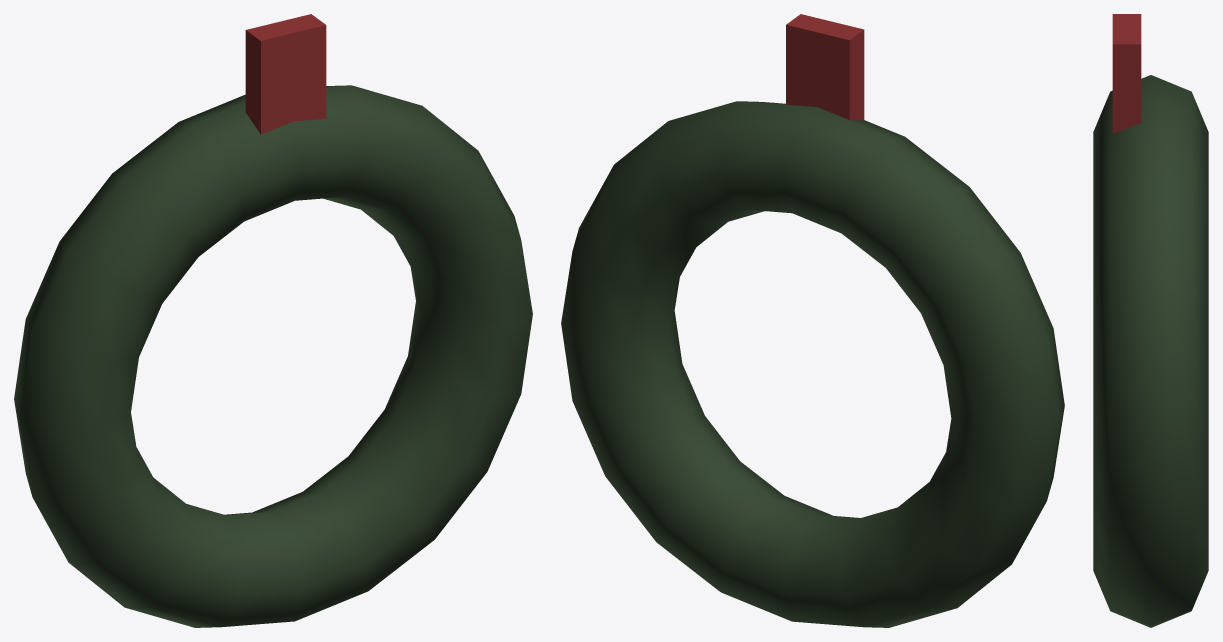
The picture shows the model from 3 angles, left to right: view 1: azimuth 30°, elevation 25°; view 2: azimuth 150°, elevation 25°; view 3: azimuth 270°, elevation 25°; orthographic projection. The views are drawn at different scales.
Visible parts, largest first — view 1: root; view 2: root; view 3: root.
Part boxes in pixels (<box>): root: <box>14,14,532,627</box>; root: <box>561,14,1064,627</box>; root: <box>1093,14,1208,627</box>.
Bounding box in the file's own units: 0.7071 × 0.8047 × 0.1463.
